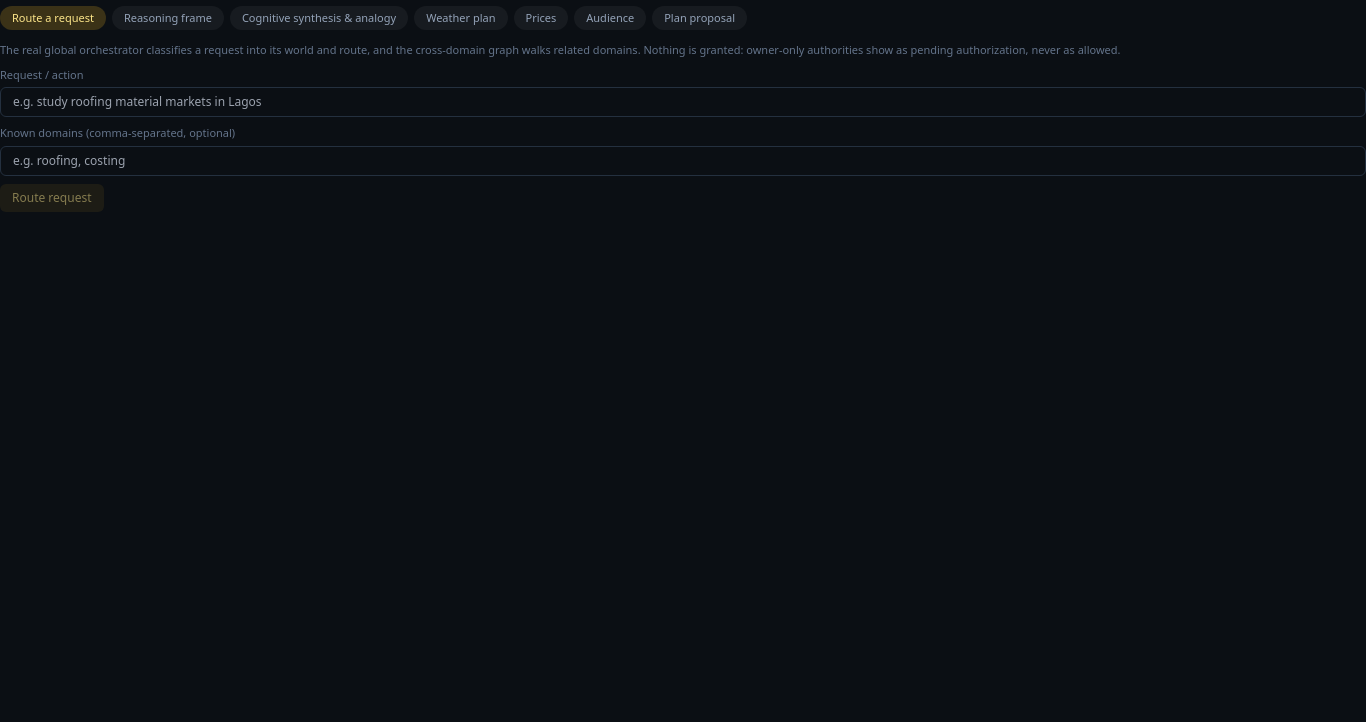
Test: DomainReasoning › the cognitive synthesis & analogy panel executes multi-domain loop with breakdown checks
This screenshot has width=1366, height=722.
Click the tab "Cognitive synthesis & analogy": (319,18) [230,6,408,30]
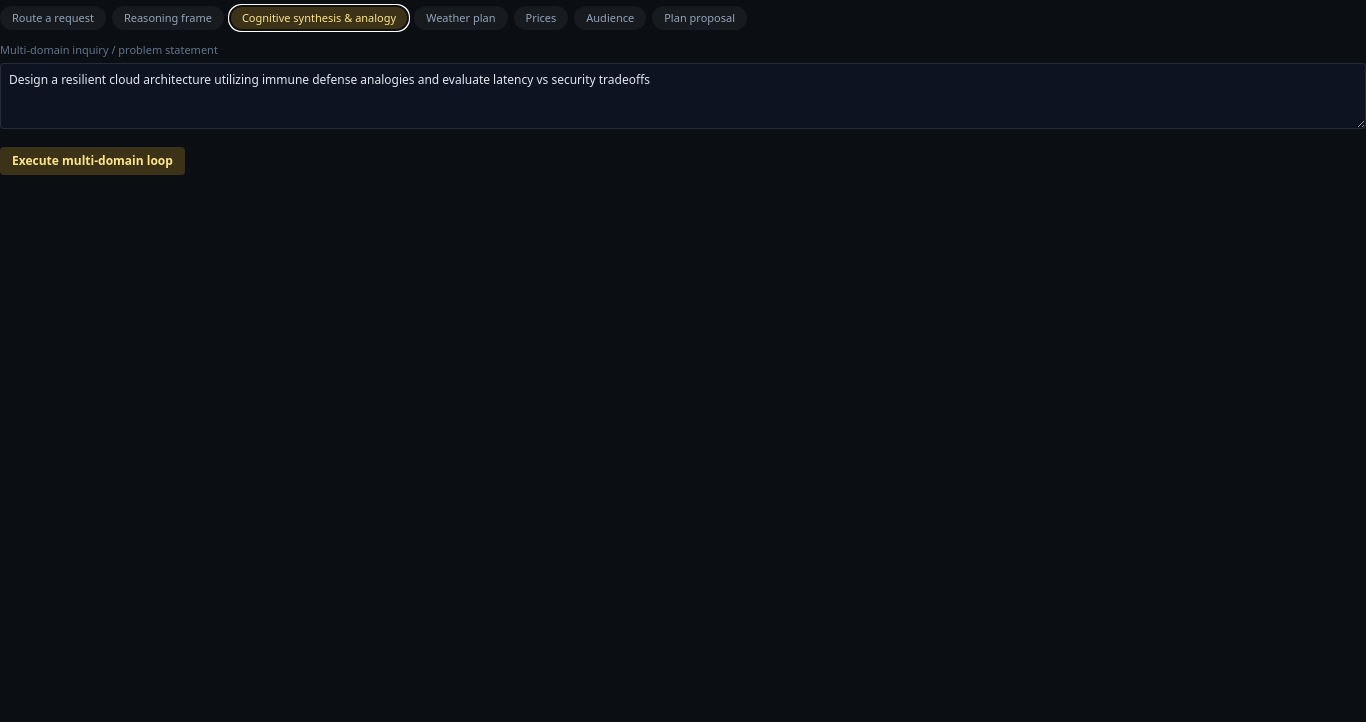
expect the text box labelled "Multi-domain inquiry" is shown: met, box [0,62,1365,128]
Click the button "Execute multi-domain loop": (92,160) [0,146,185,174]
(page scrolled)
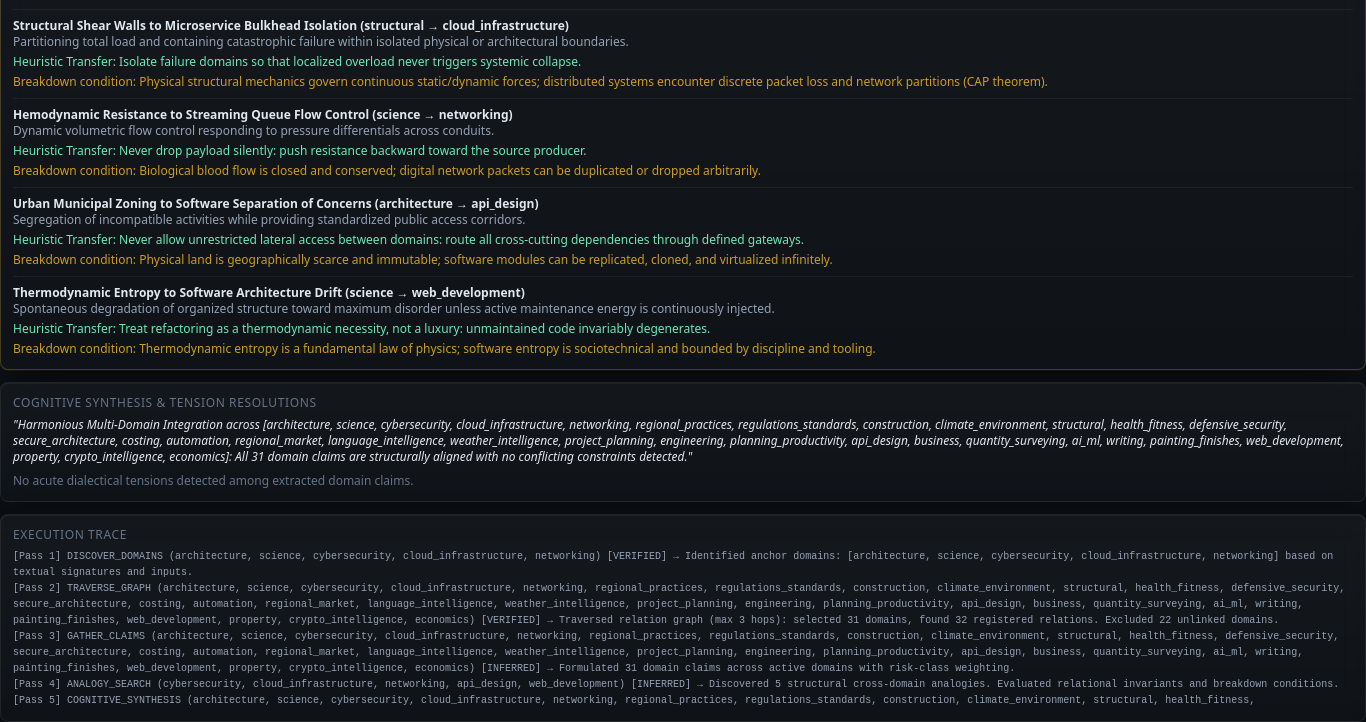
expect the text "Cognitive Synthesis & Tension Resolutions" is shown: met, box [13,394,317,410]
